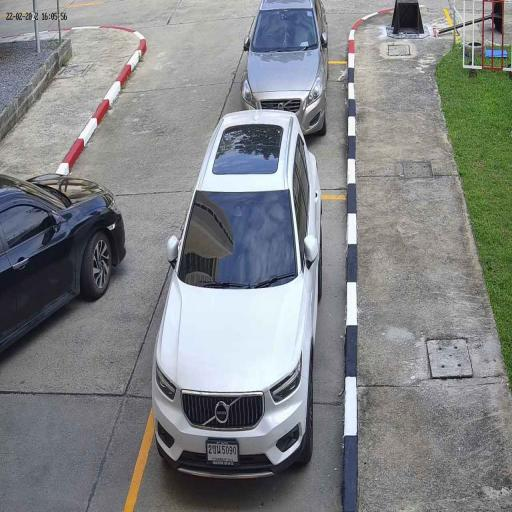car: (151, 108, 323, 486), (0, 171, 127, 354), (240, 0, 330, 142)
